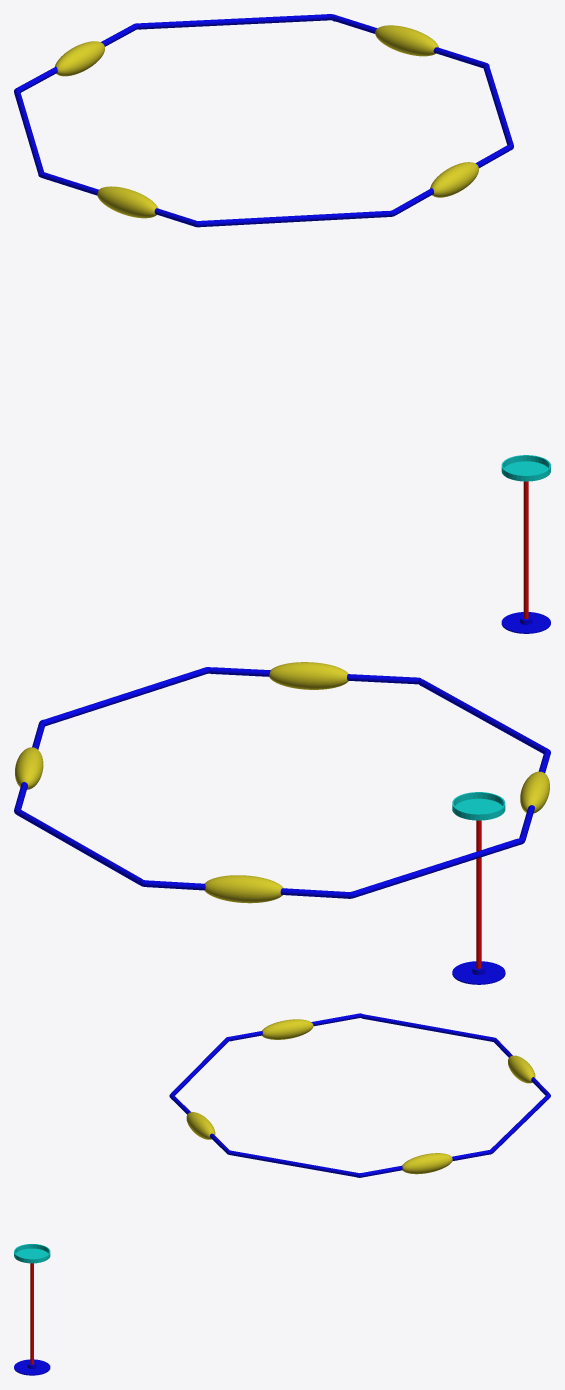
Rendered from candy.fbx.
3 views of the same model, one above another, from view 1: azimuth 30°, elevation 25°; view 2: azimuth 150°, elevation 25°; view 3: azimuth 270°, elevation 25° (orthographic). The views are drawn at different scales.
Visible parts, largest first — view 1: Cylinder.009, Cylinder.002; view 2: Cylinder.009, Cylinder.002; view 3: Cylinder.009, Cylinder.002.
Boxes of the visible parts, x1=… form: Cylinder.009: x1=14, y1=14, x2=513, y2=227; Cylinder.002: x1=501, y1=455, x2=550, y2=633; Cylinder.009: x1=14, y1=662, x2=550, y2=903; Cylinder.002: x1=452, y1=792, x2=505, y2=984; Cylinder.009: x1=169, y1=1013, x2=550, y2=1177; Cylinder.002: x1=14, y1=1244, x2=50, y2=1375.
Size of the model in its own units: 210 by 161 by 295.
